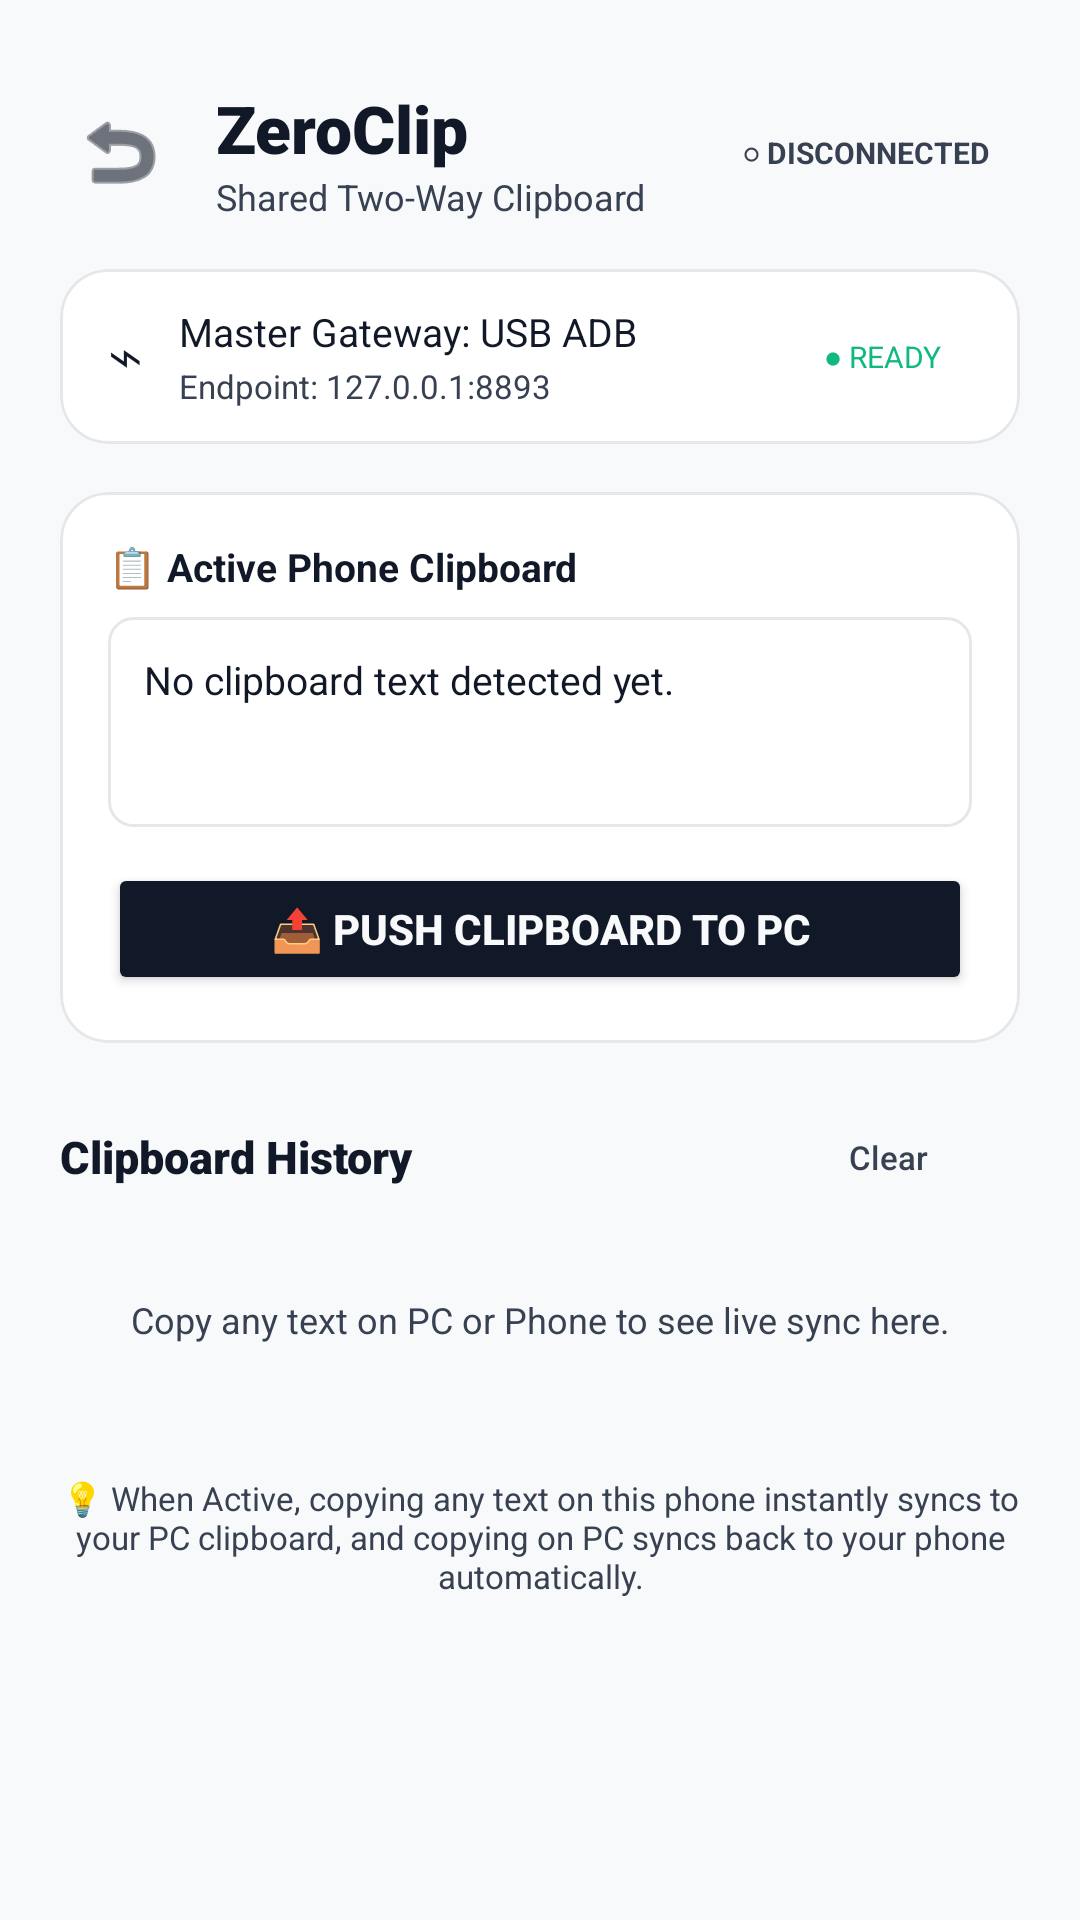

Named icons in this screenshot (1080x1920) and their centers, point (x, y):
revert: point (121, 152)
